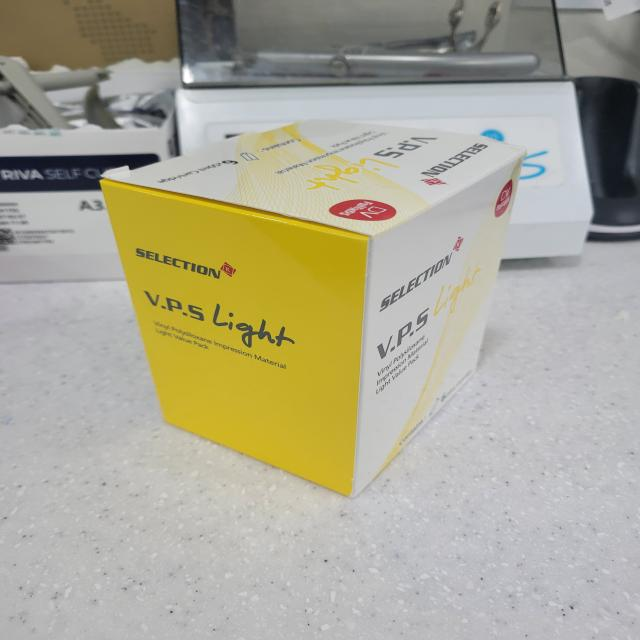impression: (91, 99, 551, 512)
